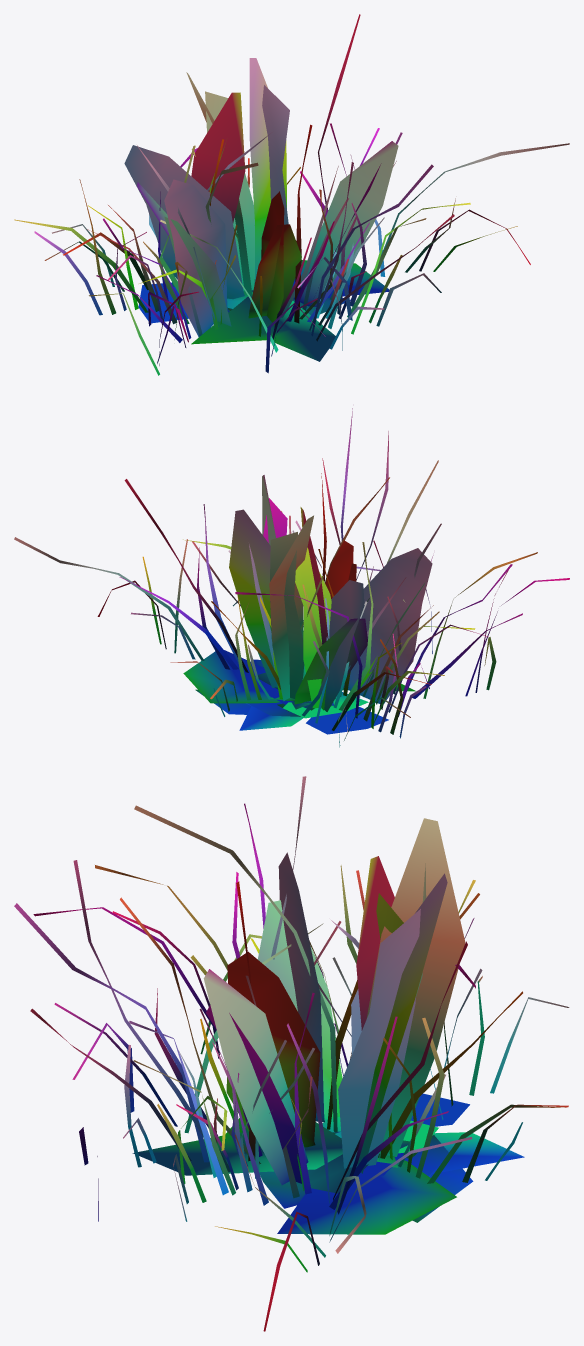
The model's file is uddmcgbia_VarD_LOD0.fbx.
3 views of the same model, one above another, from view 1: azimuth 30°, elevation 25°; view 2: azimuth 150°, elevation 25°; view 3: azimuth 270°, elevation 25° (orthographic). The views are drawn at different scales.
Visible parts, largest first — view 1: _2b68_VarD_LOD1; view 2: _2b68_VarD_LOD1; view 3: _2b68_VarD_LOD1.
Boxes of the visible parts, left/top/right/bottom form: _2b68_VarD_LOD1: left=14, top=14, right=569, bottom=375; _2b68_VarD_LOD1: left=14, top=408, right=569, bottom=747; _2b68_VarD_LOD1: left=14, top=776, right=569, bottom=1331.
Size of the model in its own units: 16.27 by 7.06 by 10.77.
